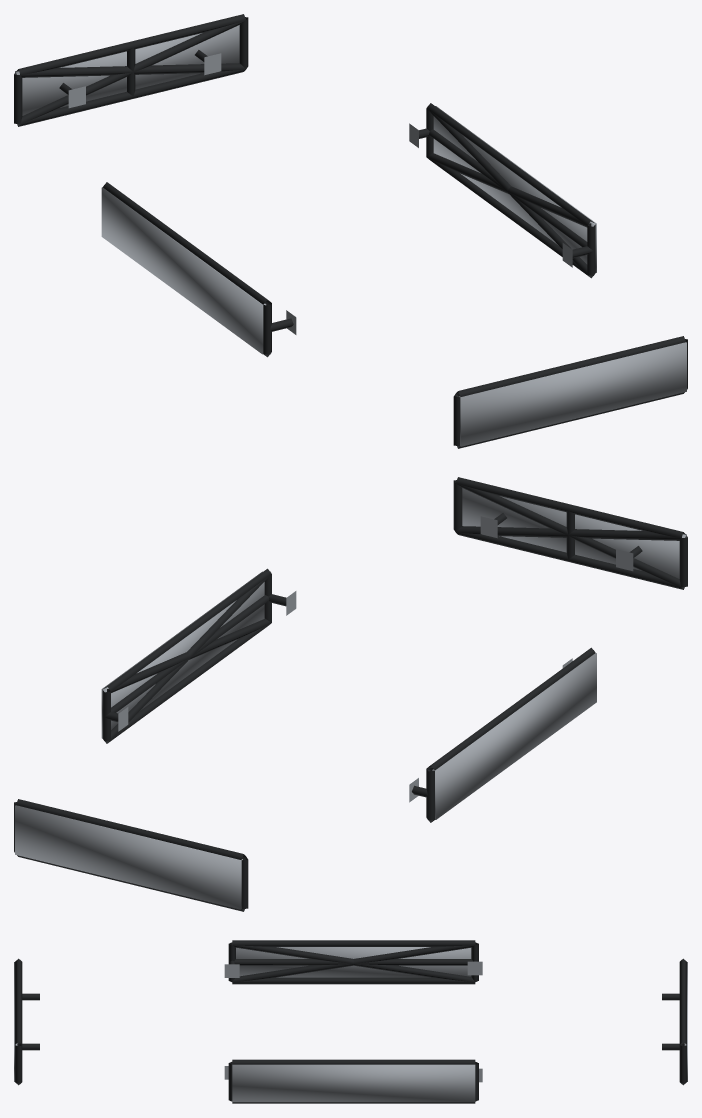
File: keldorf_coluna_protecao.glb
3 renders of one model, top to bottom at view 1: azimuth 30°, elevation 25°; view 2: azimuth 150°, elevation 25°; view 3: azimuth 270°, elevation 25°, orthographic. The views are drawn at different scales.
Parts seen in each view (by area): view 1: Protection_front_Level3_Details, Protection_left_Level3_Details, Protection_rear_Level1_Details, Protection_rear_Level3_Details, Protection_right_Level1_Details, Protection_rear_Level2_Details, Protection_right_Level2_Details, Protection_right_Level3_Details, Protection_front_Level1_Details, Protection_left_Level1_Details; view 2: Protection_rear_Level3_Details, Protection_left_Level3_Details, Protection_front_Level1_Details, Protection_front_Level3_Details, Protection_right_Level1_Details, Protection_front_Level2_Details, Protection_right_Level2_Details, Protection_right_Level3_Details, Protection_rear_Level1_Details, Protection_left_Level1_Details; view 3: Protection_right_Level3_Details, Protection_left_Level2_Details, Protection_left_Level1_Details, Protection_left_Level3_Details, Protection_right_Level1_Details, Protection_rear_Level1_Details, Protection_front_Level1_Details.
Boxes of the visible parts, x1,y1,x2,y2 form: Protection_front_Level3_Details: [459, 342, 686, 446]; Protection_left_Level3_Details: [101, 187, 266, 354]; Protection_rear_Level1_Details: [14, 14, 248, 126]; Protection_rear_Level3_Details: [15, 25, 239, 115]; Protection_right_Level1_Details: [409, 103, 595, 278]; Protection_rear_Level2_Details: [16, 20, 245, 125]; Protection_right_Level2_Details: [427, 109, 594, 277]; Protection_right_Level3_Details: [433, 106, 596, 272]; Protection_front_Level1_Details: [453, 336, 687, 448]; Protection_left_Level1_Details: [103, 182, 296, 357]; Protection_rear_Level3_Details: [15, 805, 242, 909]; Protection_left_Level3_Details: [432, 653, 596, 819]; Protection_front_Level1_Details: [453, 477, 687, 589]; Protection_front_Level3_Details: [462, 488, 686, 578]; Protection_right_Level1_Details: [102, 568, 296, 743]; Protection_front_Level2_Details: [456, 483, 685, 588]; Protection_right_Level2_Details: [104, 575, 271, 743]; Protection_right_Level3_Details: [101, 571, 264, 738]; Protection_rear_Level1_Details: [14, 799, 248, 911]; Protection_left_Level1_Details: [409, 647, 595, 822]; Protection_right_Level3_Details: [232, 1064, 475, 1102]; Protection_left_Level2_Details: [232, 943, 474, 982]; Protection_left_Level1_Details: [224, 940, 482, 984]; Protection_left_Level3_Details: [236, 947, 471, 977]; Protection_right_Level1_Details: [224, 1059, 482, 1103]; Protection_rear_Level1_Details: [662, 958, 686, 1085]; Protection_front_Level1_Details: [15, 958, 39, 1085].
Bounding box in the file's own units: 2.14 × 0.354 × 4.94.
Materials: 1 (1 with a texture image).
